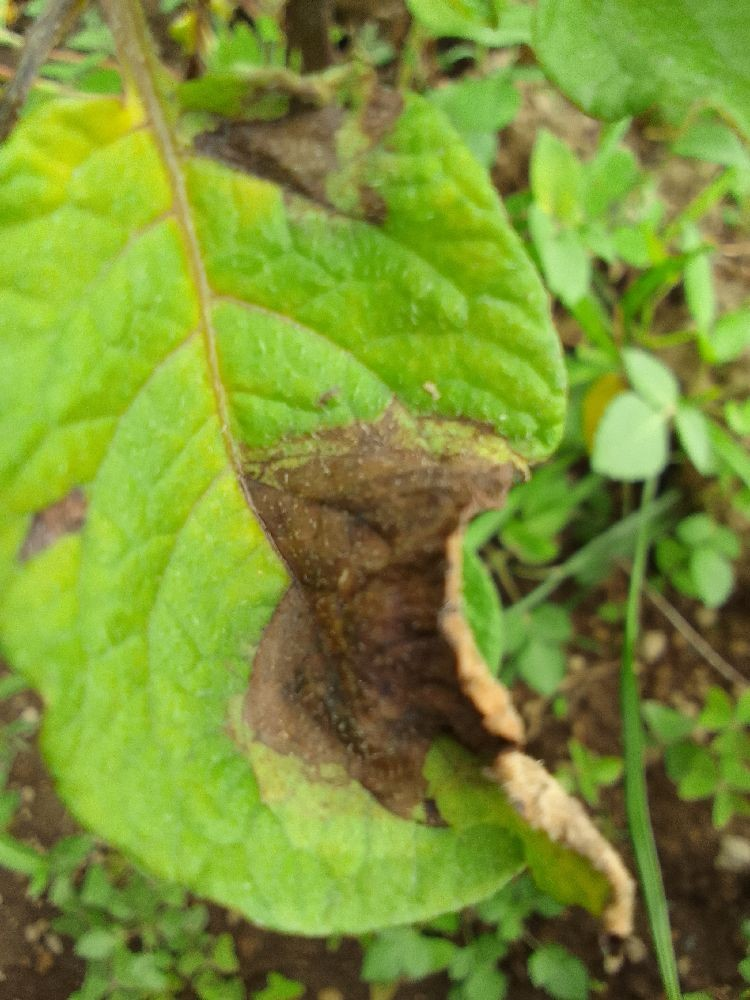late_blight: (209, 383, 749, 999), (0, 824, 153, 1000), (476, 69, 614, 215)
